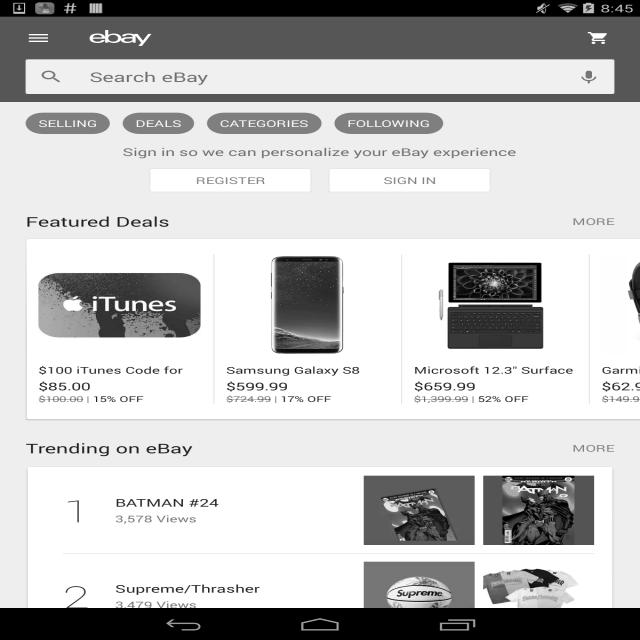Button: (145, 164, 316, 197), (324, 164, 495, 197), (560, 205, 627, 238), (560, 432, 627, 464)
ImageButton: (9, 17, 68, 59), (564, 61, 614, 92)
ImageView: (38, 254, 200, 356), (226, 254, 388, 356), (414, 254, 576, 356), (483, 476, 594, 545), (483, 562, 594, 631), (364, 476, 474, 545), (364, 562, 474, 631), (601, 254, 640, 355), (90, 30, 152, 46), (585, 30, 610, 46)
TextView: (26, 59, 563, 94), (122, 145, 516, 159), (26, 439, 192, 457), (26, 212, 170, 230), (207, 113, 322, 134), (334, 113, 444, 134), (115, 581, 260, 596), (38, 364, 200, 376), (226, 364, 388, 376), (414, 364, 576, 376), (25, 113, 110, 134), (115, 495, 219, 510), (123, 113, 194, 134), (414, 394, 528, 404), (63, 490, 90, 530), (63, 576, 90, 616), (115, 512, 197, 525), (115, 598, 197, 611), (38, 394, 144, 404), (226, 394, 331, 404), (226, 379, 288, 393), (414, 379, 476, 393), (38, 379, 91, 393), (601, 378, 640, 393), (601, 363, 640, 376), (601, 393, 640, 404)
